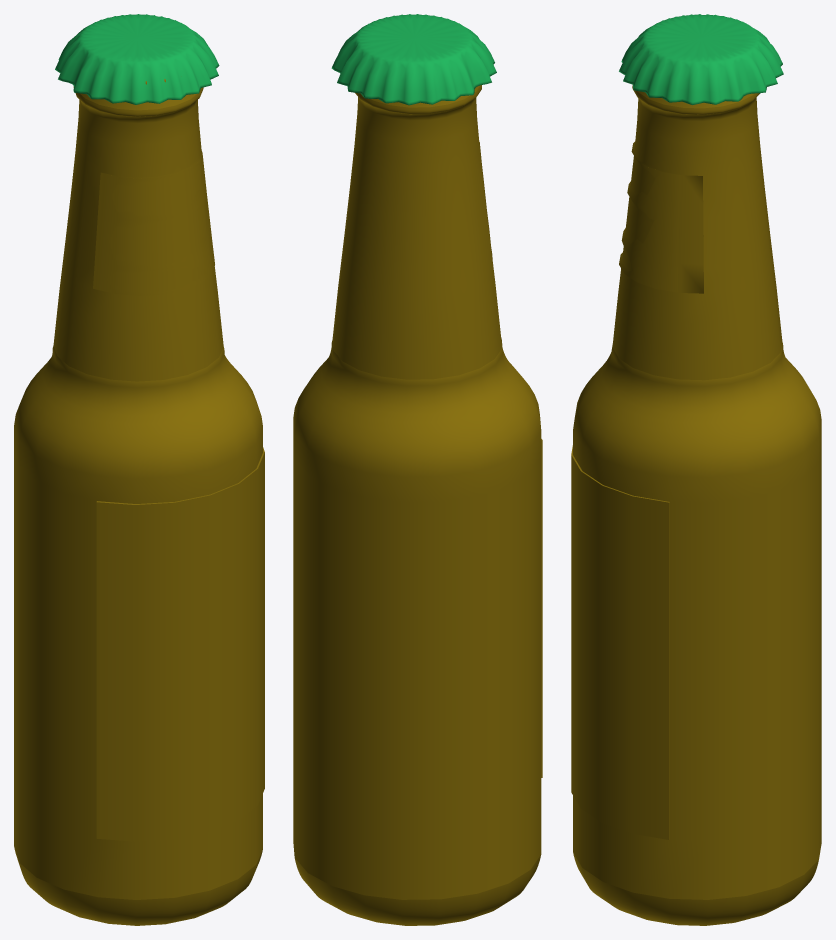
Rendered from beer.obj.
3 views of the same model, side by side, from view 1: azimuth 30°, elevation 25°; view 2: azimuth 150°, elevation 25°; view 3: azimuth 270°, elevation 25° (orthographic).
Visible parts, largest first — view 1: Line08, Label03, Cylinder07, Label_Neck03; view 2: Line08, Cylinder07, Label03; view 3: Line08, Label03, Cylinder07, Label_Neck03.
Part boxes in pixels (x1,y1,x2,y2): Line08: (14,79,262,925); Label03: (96,447,264,841); Cylinder07: (55,14,219,104); Label_Neck03: (95,151,214,295); Line08: (293,85,541,925); Cylinder07: (331,14,496,105); Label03: (541,439,542,777); Line08: (573,85,821,925); Label03: (571,445,669,839); Cylinder07: (619,14,783,104); Label_Neck03: (619,141,681,292).
Bounding box in the file's own units: 776 × 2943 × 782.
